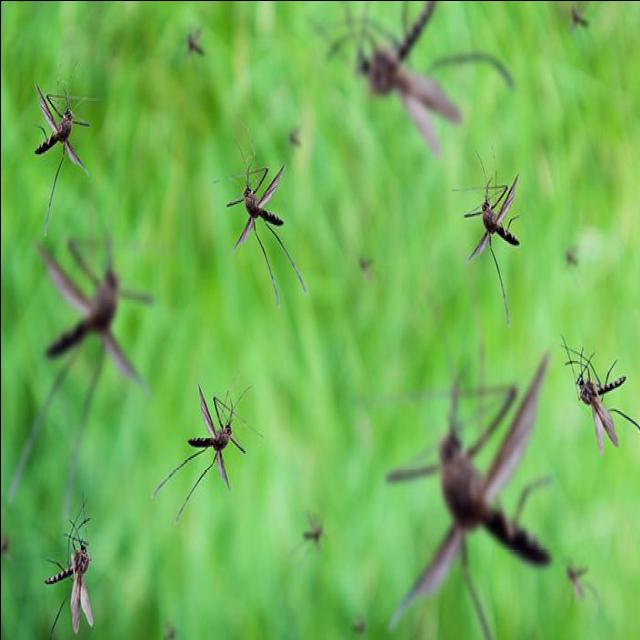Mosquito: (0, 0, 640, 640), (390, 353, 554, 598), (346, 0, 481, 187), (206, 134, 315, 346), (149, 324, 267, 502), (11, 38, 122, 212), (450, 153, 550, 323), (21, 482, 128, 640), (541, 317, 639, 469)
